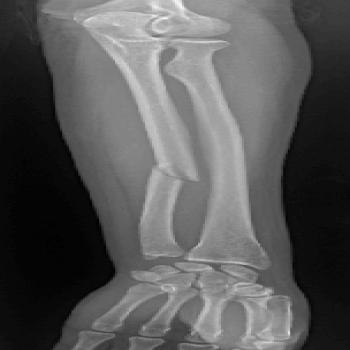Fracture: (142, 159, 201, 185)
